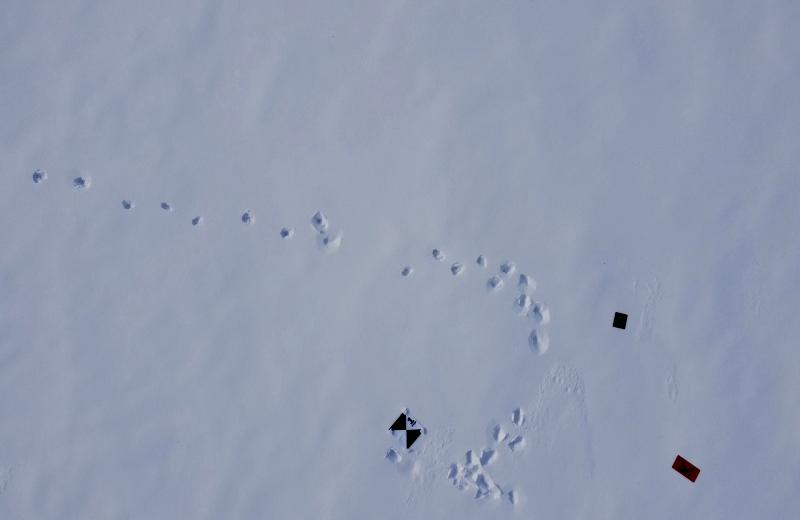Rectangle: (670, 450, 704, 485)
Square: (611, 311, 634, 336)
